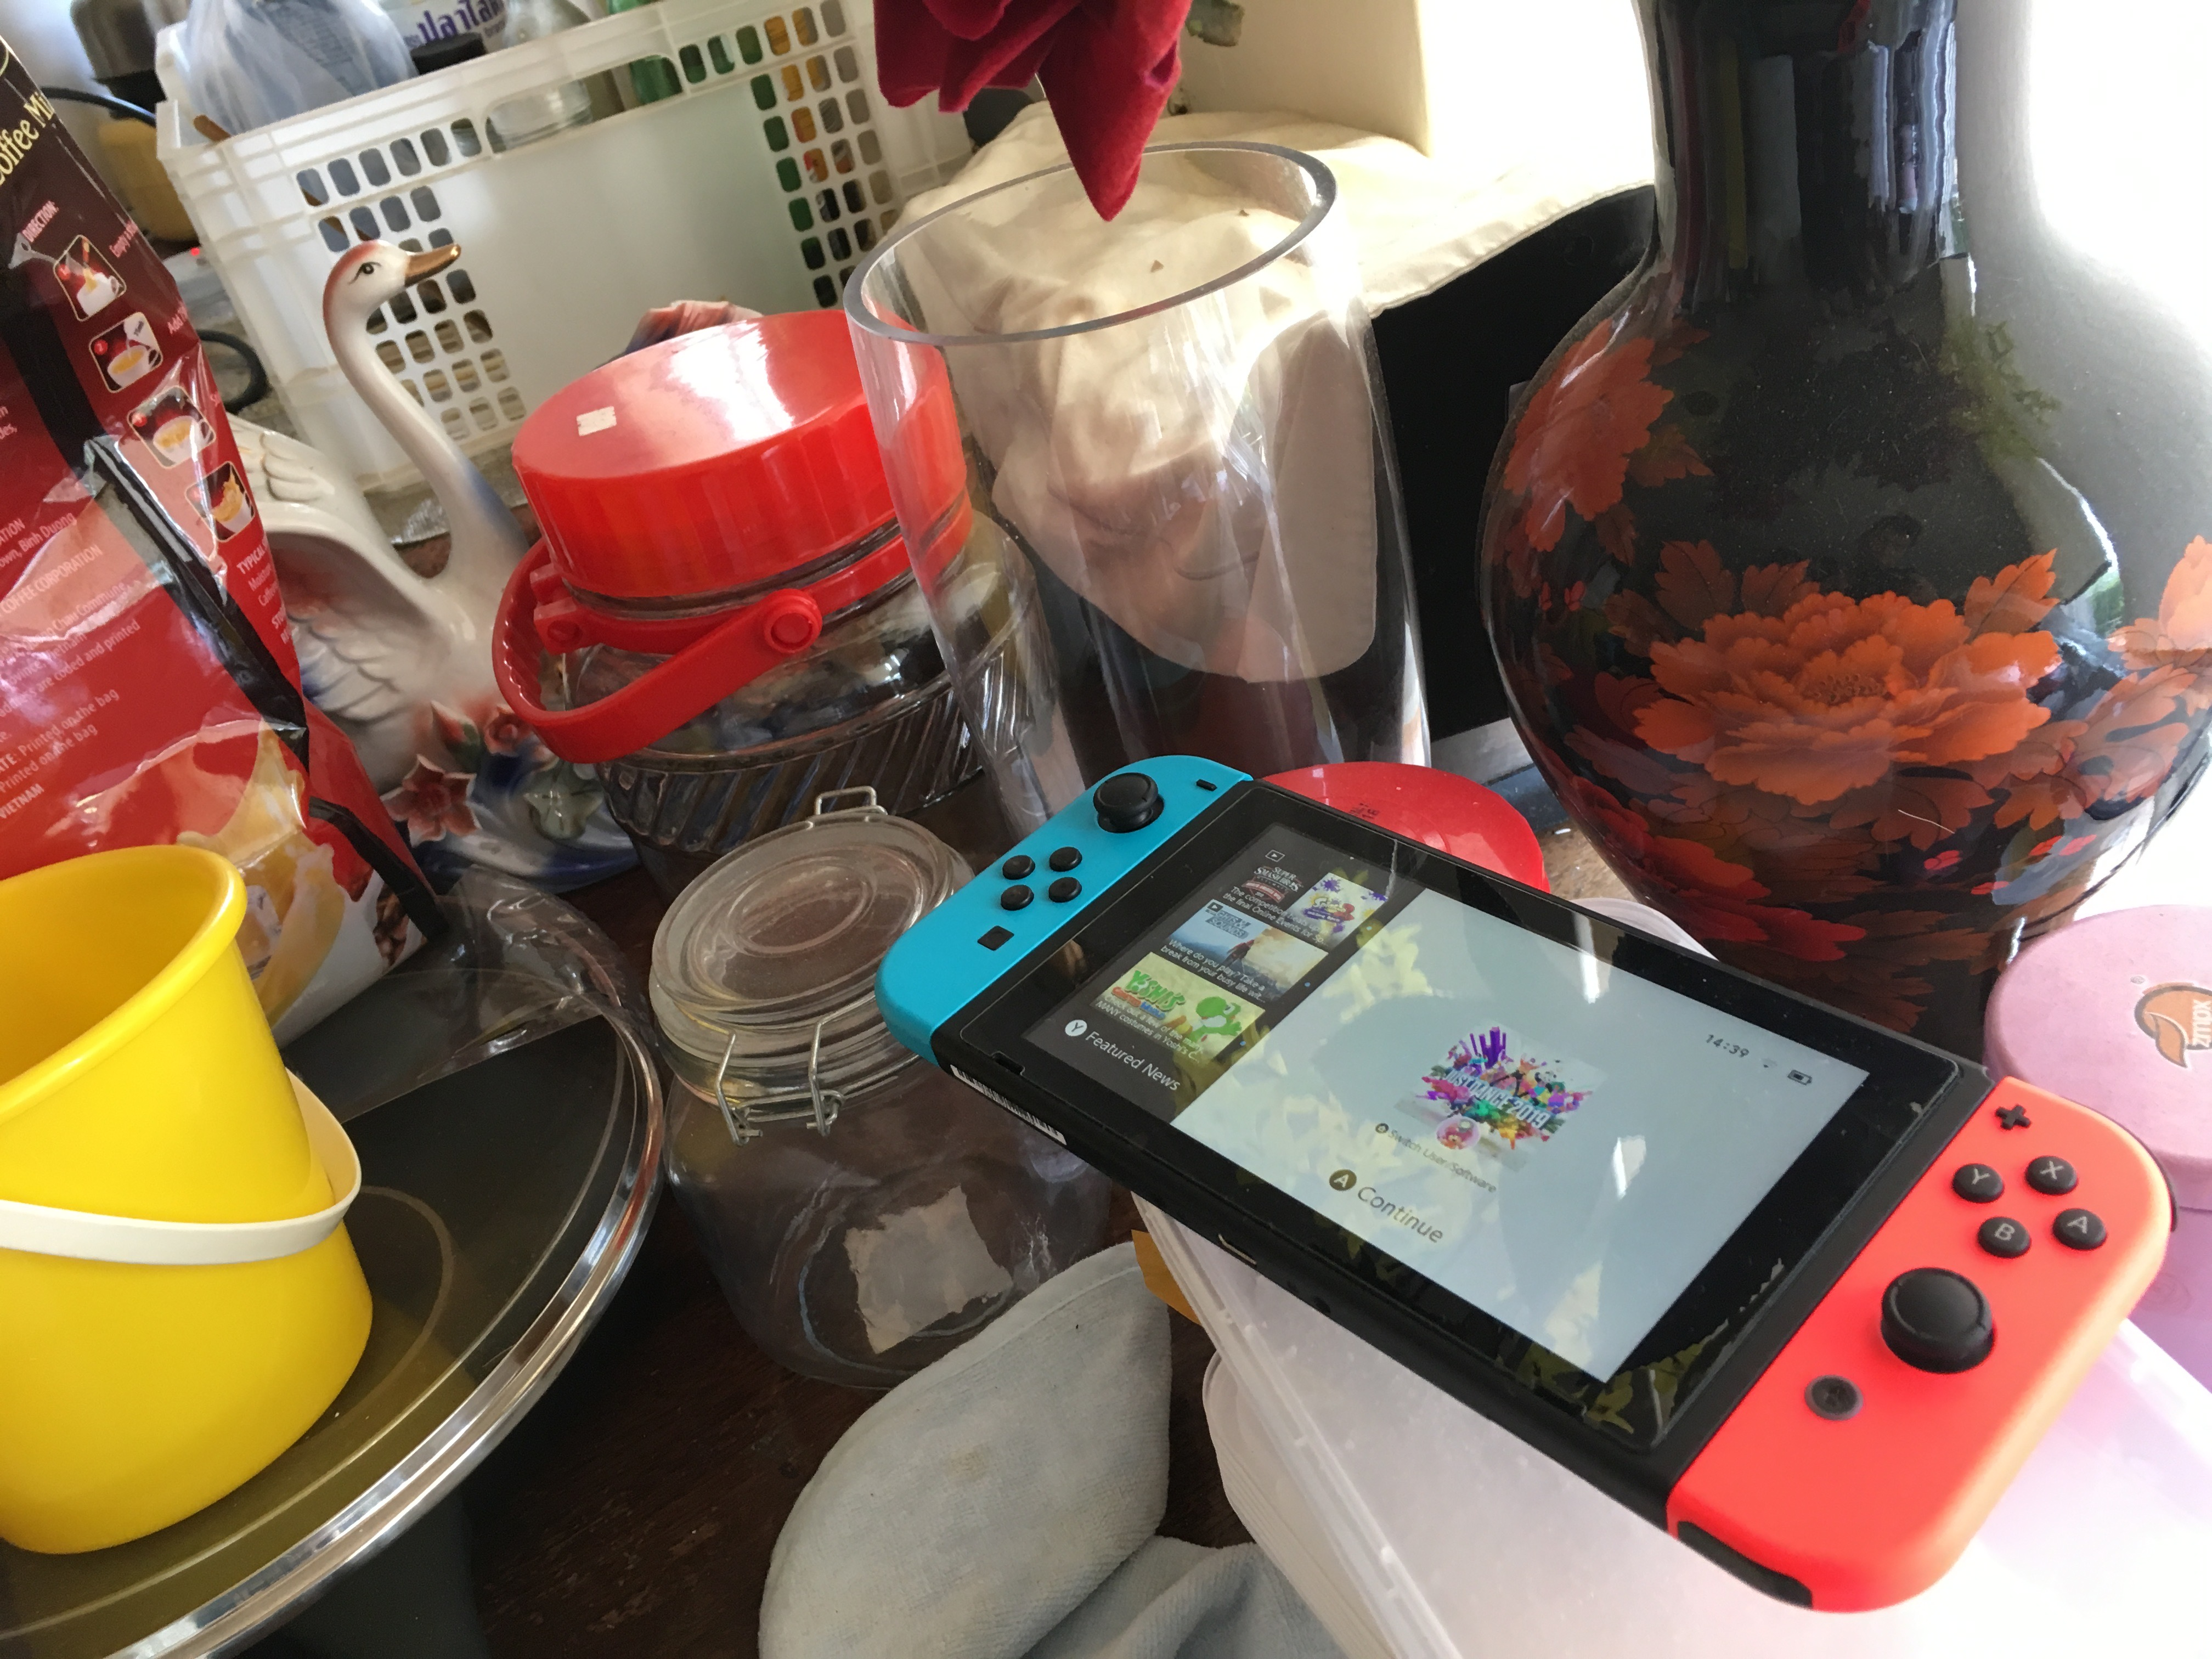NintendoSwitch: (866, 742, 2188, 1622)
